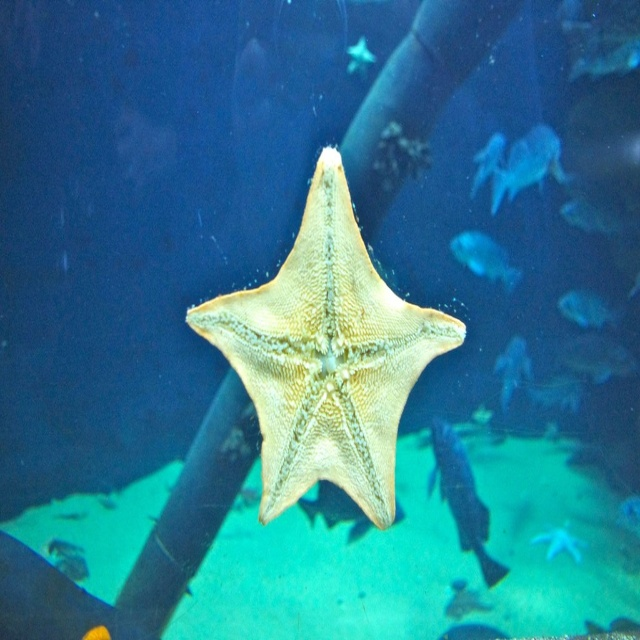Fish: (183, 144, 469, 534)
